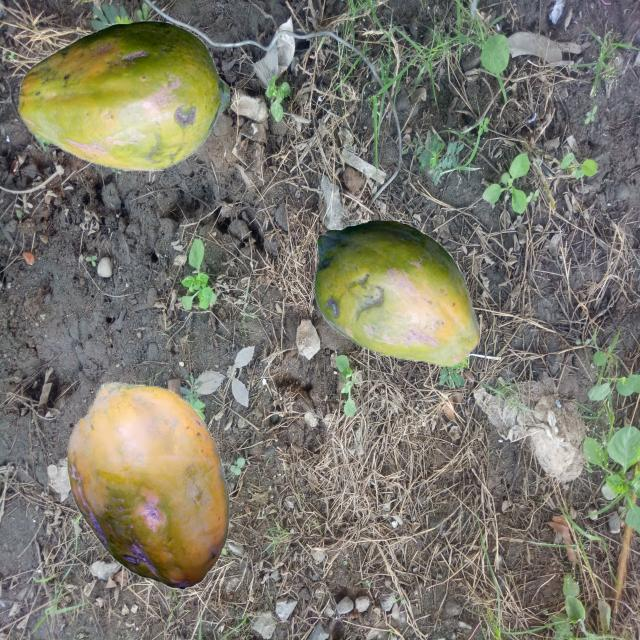Pepaya rippen: (65, 374, 232, 597), (17, 33, 246, 173), (308, 218, 483, 374)
